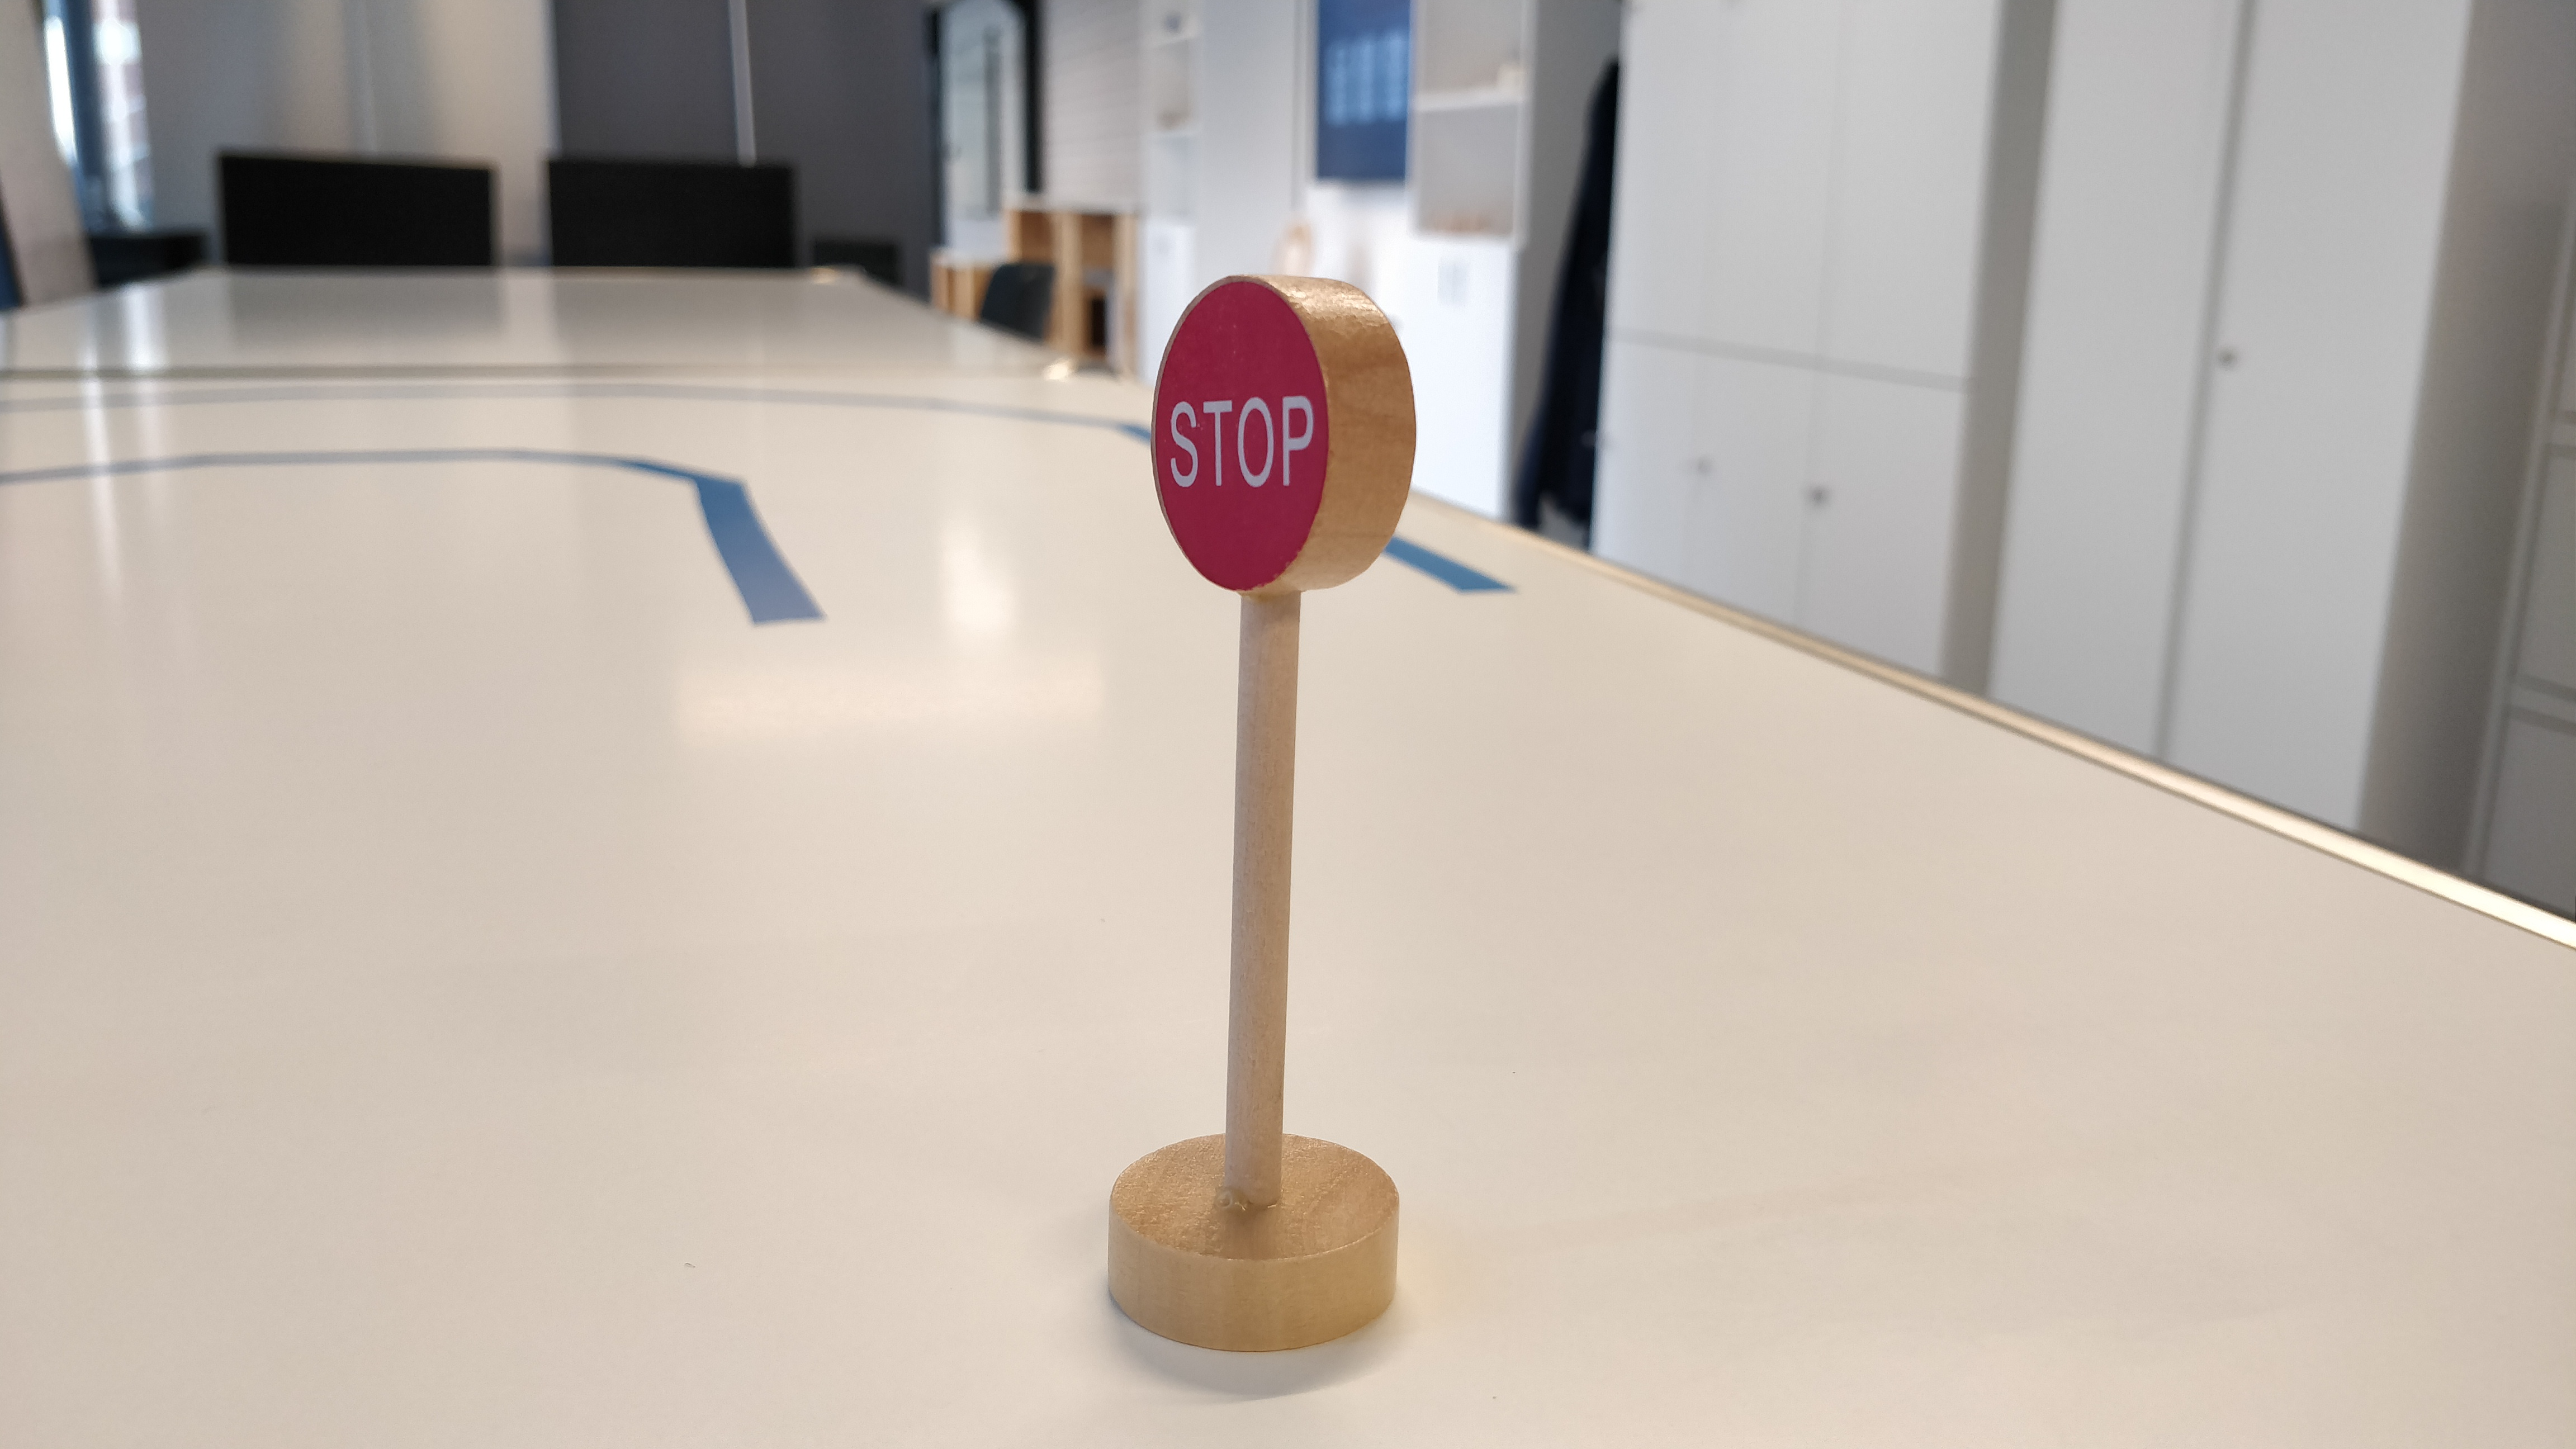Stop Sign: (1153, 271, 1421, 596)
